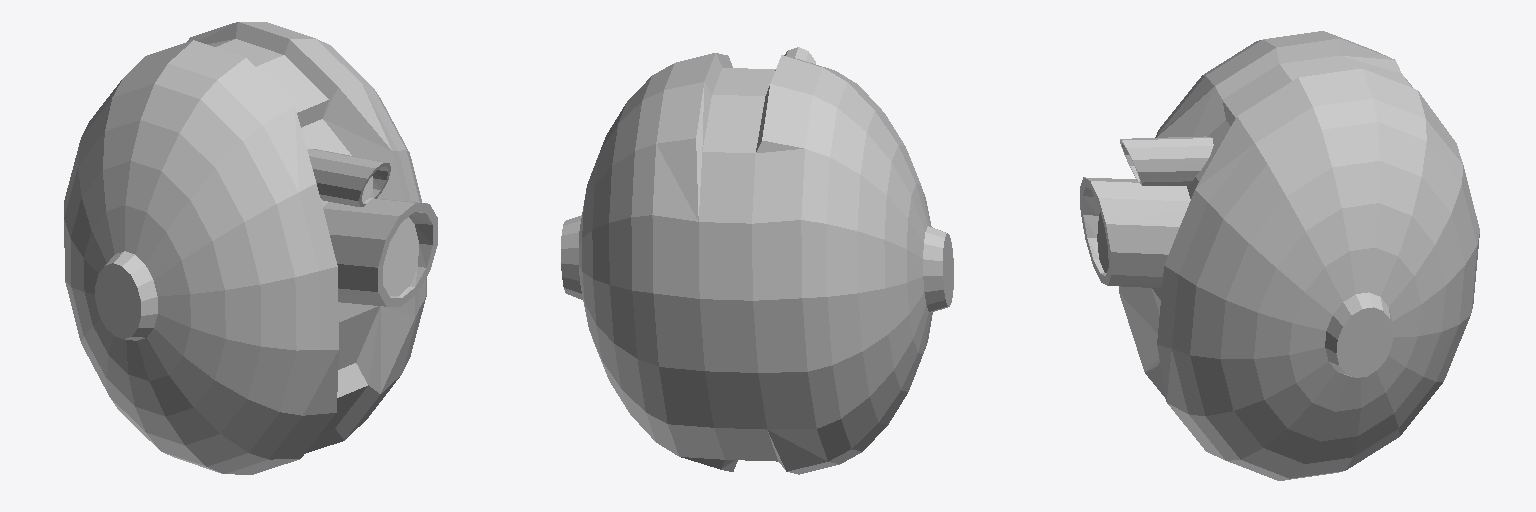
File: RedRoboHead.obj
3 views of the same model, side by side, from view 1: azimuth 30°, elevation 25°; view 2: azimuth 150°, elevation 25°; view 3: azimuth 270°, elevation 25° (orthographic).
Parts seen in each view (by area): view 1: polySurface7; view 2: polySurface7; view 3: polySurface7.
Boxes of the visible parts, <box> form: polySurface7: <box>64,22,437,474</box>; polySurface7: <box>561,47,953,474</box>; polySurface7: <box>1080,31,1479,480</box>.
Bounding box in the file's own units: 1.85 × 2.13 × 1.91.